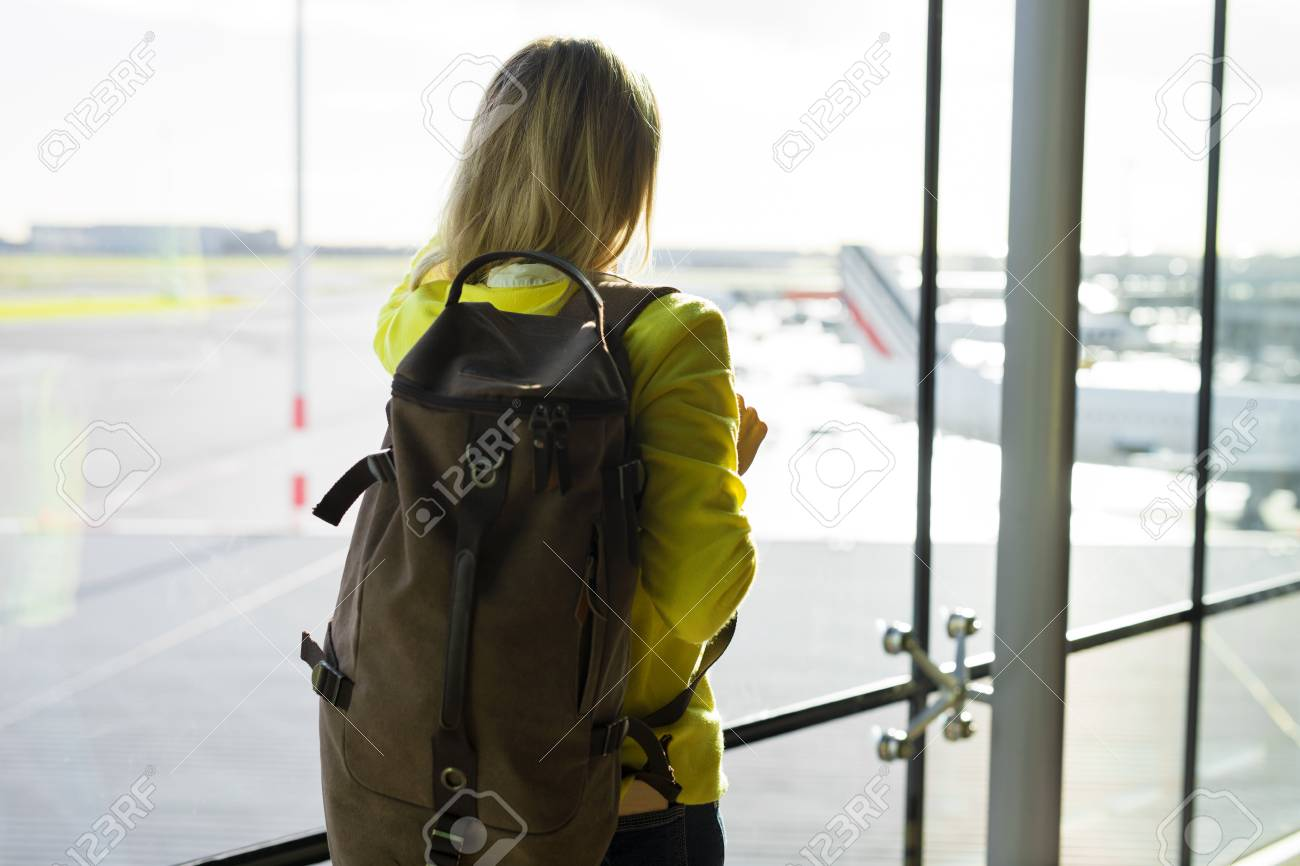backpack: (299, 246, 670, 866)
people: (372, 25, 774, 866)
